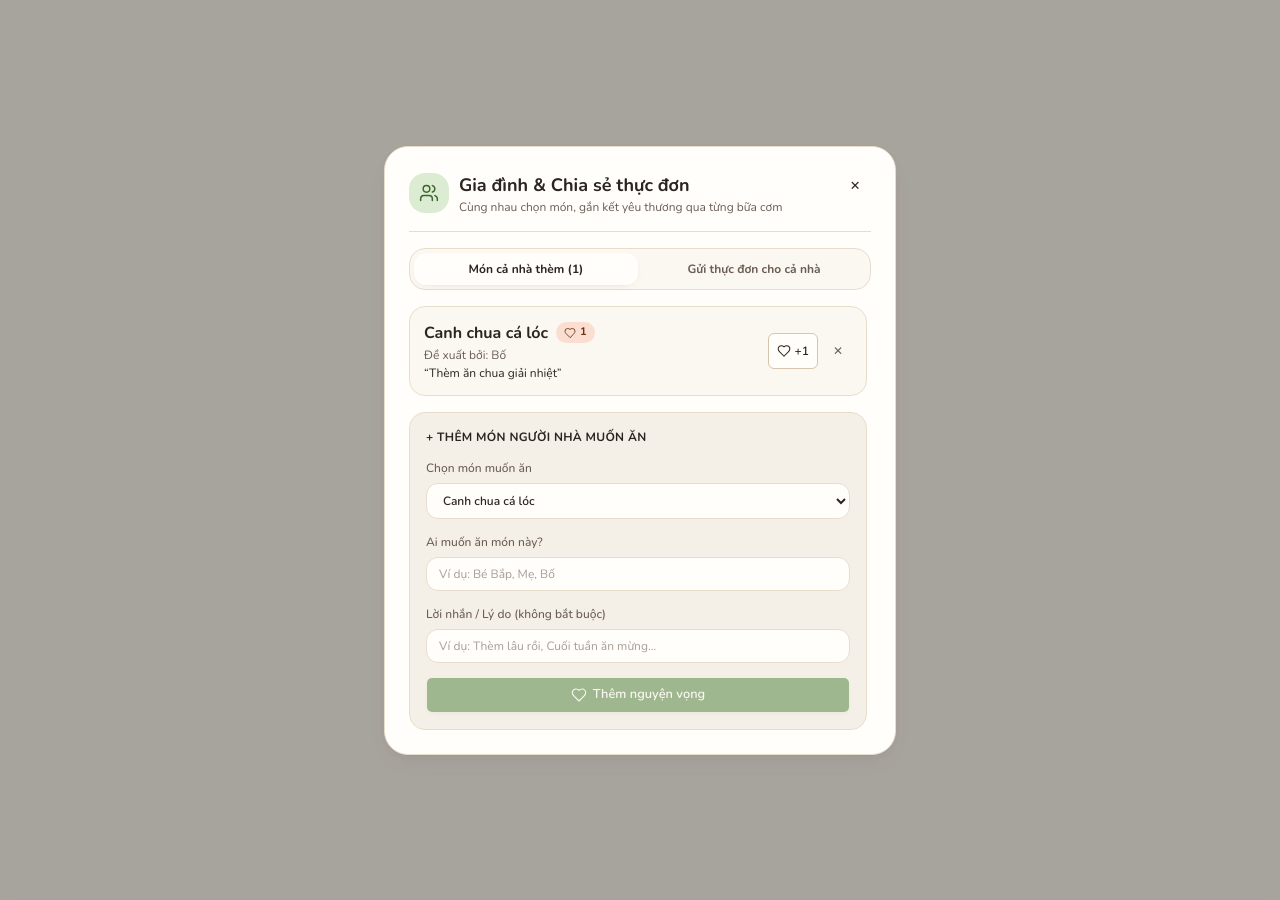
Test: FamilyCollaborationModal › renders modal with family wishes and announcement tabs
Expected: the heading "Gia đình & Chia sẻ thực đơn" is shown, [459, 172, 690, 196]
Expected: the text "Canh chua cá lóc" is shown, [424, 320, 548, 344]
Switch to tab "Gửi thực đơn cho cả nhà"
Click the tab "Gửi thực đơn cho cả nhà": click(754, 268) [642, 252, 866, 284]
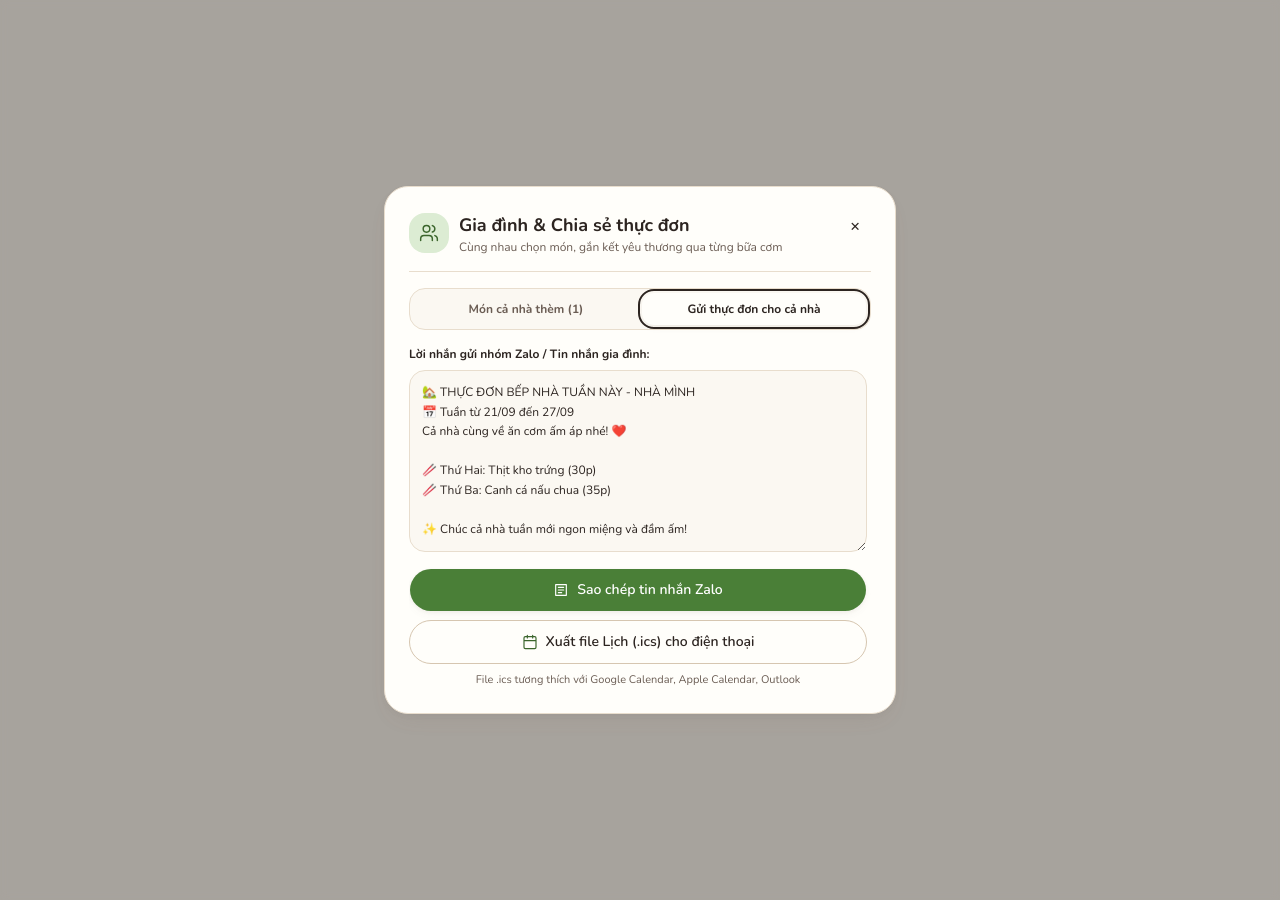
Expected: the text box "THỰC ĐƠN BẾP NHÀ TUẦN NÀY - NHÀ MÌNH" is shown, [409, 370, 867, 552]
Expected: the button "Sao chép tin nhắn Zalo" is shown, [409, 568, 867, 612]
Expected: the button "Xuất file Lịch (.ics) cho điện thoại" is shown, [409, 620, 867, 664]
